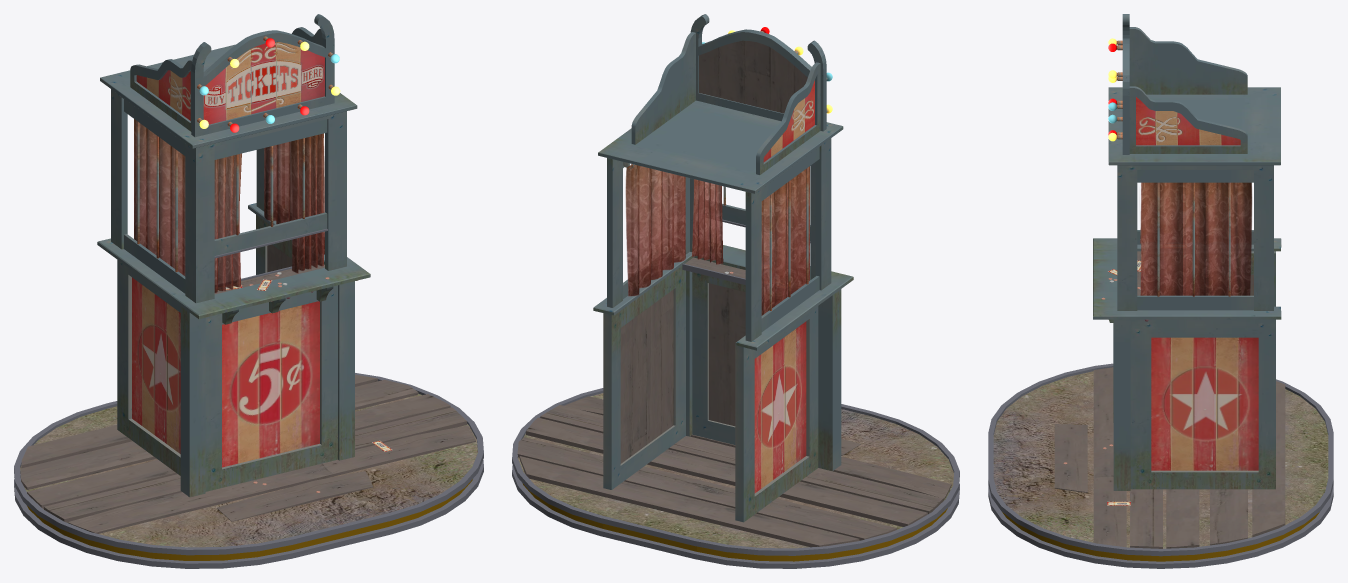
Rendered from optimized_booth.gltf.
The picture shows the model from 3 angles, left to right: view 1: azimuth 30°, elevation 25°; view 2: azimuth 150°, elevation 25°; view 3: azimuth 270°, elevation 25°; orthographic projection. The views are drawn at different scales.
Visible parts, largest first — view 1: pCylinder11, pCube1, pCube12, pCube26, pCube31, pCube33, pTorus19, pCube3, pCube29, pCube32, pCube34, pCube35 (+16 smaller); view 2: pCylinder11, pCube30, pCube31, pCube20, pCube26, pCube12, pCube1, pTorus20, pCube36, pCube35, pCube34, pTorus19 (+12 smaller); view 3: pCylinder11, pCube30, pTorus20, pCube20, pCube12, pCube25, pCube67, pCube33, pCube3, pCube2, pCube36, pCube37 (+7 smaller).
Part boxes in pixels (left/top/right/bottom): pCylinder11: left=14, top=373, right=483, bottom=568; pCube1: left=205, top=285, right=337, bottom=491; pCube12: left=111, top=89, right=346, bottom=303; pCube26: left=191, top=14, right=334, bottom=137; pCube31: left=117, top=260, right=180, bottom=475; pCube33: left=67, top=425, right=475, bottom=533; pTorus19: left=134, top=119, right=185, bottom=276; pCube3: left=97, top=203, right=370, bottom=318; pCube29: left=44, top=407, right=466, bottom=522; pCube32: left=180, top=306, right=205, bottom=497; pCube34: left=27, top=394, right=450, bottom=508; pCube35: left=20, top=379, right=418, bottom=489; pCylinder11: left=512, top=388, right=959, bottom=568; pCube30: left=603, top=266, right=685, bottom=489; pCube31: left=735, top=306, right=818, bottom=522; pCube20: left=598, top=100, right=843, bottom=193; pCube26: left=690, top=14, right=826, bottom=131; pCube12: left=607, top=138, right=831, bottom=341; pCube1: left=692, top=272, right=745, bottom=444; pTorus20: left=623, top=162, right=685, bottom=296; pCube36: left=519, top=456, right=859, bottom=547; pCube35: left=517, top=437, right=896, bottom=540; pCube34: left=526, top=417, right=927, bottom=526; pTorus19: left=761, top=166, right=809, bottom=315; pCylinder11: left=988, top=363, right=1333, bottom=568; pCube30: left=1130, top=319, right=1275, bottom=489; pTorus20: left=1140, top=182, right=1252, bottom=295; pCube20: left=1108, top=87, right=1280, bottom=165; pCube12: left=1117, top=165, right=1273, bottom=310; pCube25: left=1129, top=86, right=1247, bottom=153; pCube67: left=1129, top=27, right=1247, bottom=94; pCube33: left=1093, top=367, right=1126, bottom=547; pCube3: left=1093, top=238, right=1281, bottom=319; pCube2: left=1113, top=319, right=1130, bottom=490; pCube36: left=1252, top=381, right=1285, bottom=537; pCube37: left=1054, top=424, right=1087, bottom=492.
Bounding box in the file's own units: 0.0823 × 0.0867 × 0.063.
10 materials, 8 textured.
